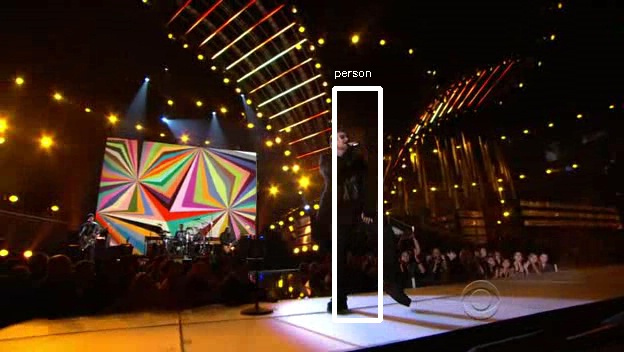person: (318, 130, 381, 248), (315, 130, 378, 248), (321, 130, 384, 248), (318, 127, 381, 245), (318, 133, 381, 251)
target_negative: (444, 52, 576, 256), (255, 20, 386, 149), (268, 129, 388, 235), (387, 92, 411, 152), (561, 49, 612, 57), (396, 247, 413, 265)
